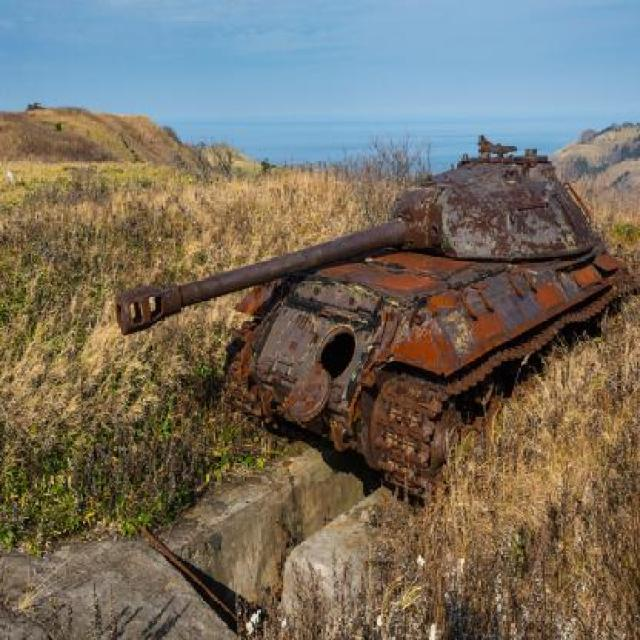corrosion: (114, 132, 640, 506)
